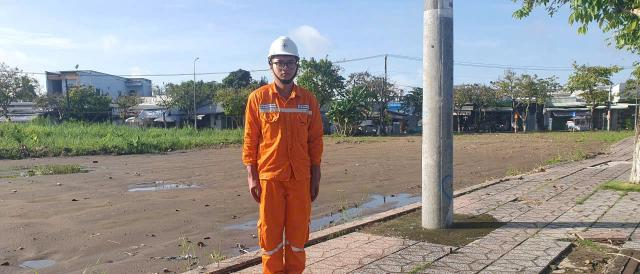gloves: (239, 160, 272, 207), (306, 158, 330, 204)
helmet: (265, 29, 309, 65)
